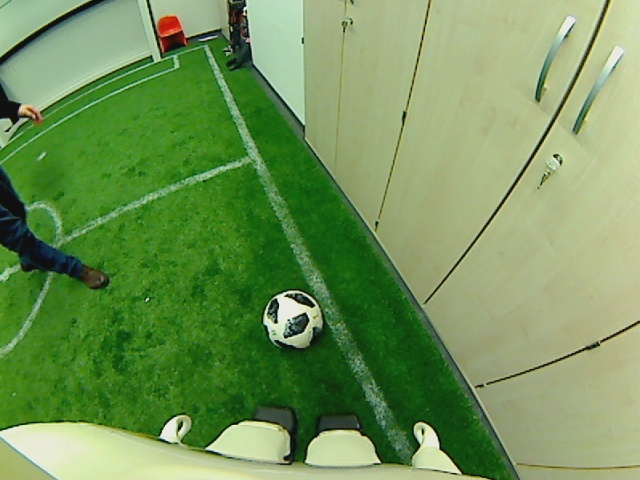ball: (260, 289, 325, 349)
